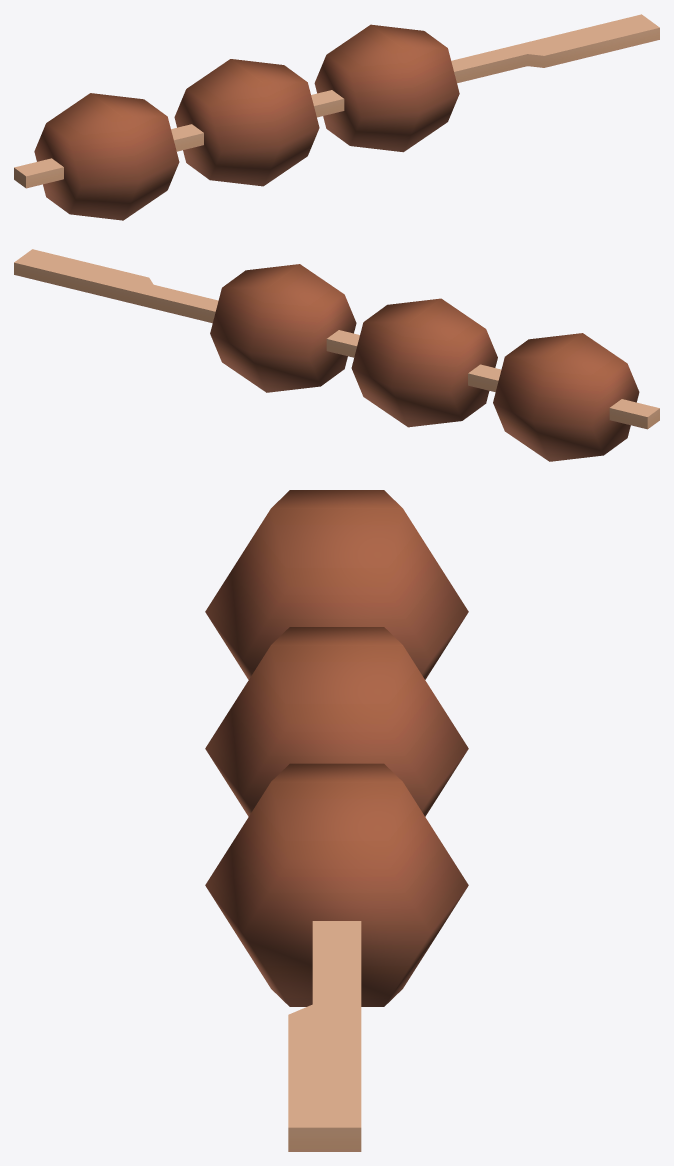
The model's file is skewer.glb.
3 renders of one model, top to bottom at view 1: azimuth 30°, elevation 25°; view 2: azimuth 150°, elevation 25°; view 3: azimuth 270°, elevation 25°, orthographic. The views are drawn at different scales.
Parts seen in each view (by area): view 1: meat (×3), skewer; view 2: meat (×3), skewer; view 3: meat (×3), skewer.
Boxes of the visible parts, x1,y1,x2,y2 form: meat (×3): (34, 24, 459, 220); skewer: (14, 14, 659, 188); meat (×3): (210, 264, 639, 461); skewer: (14, 249, 659, 429); meat (×3): (205, 490, 468, 1006); skewer: (288, 921, 361, 1151).
Size of the model in its own units: 0.5967 by 0.094 by 0.1085.
1 material, 1 textured.
